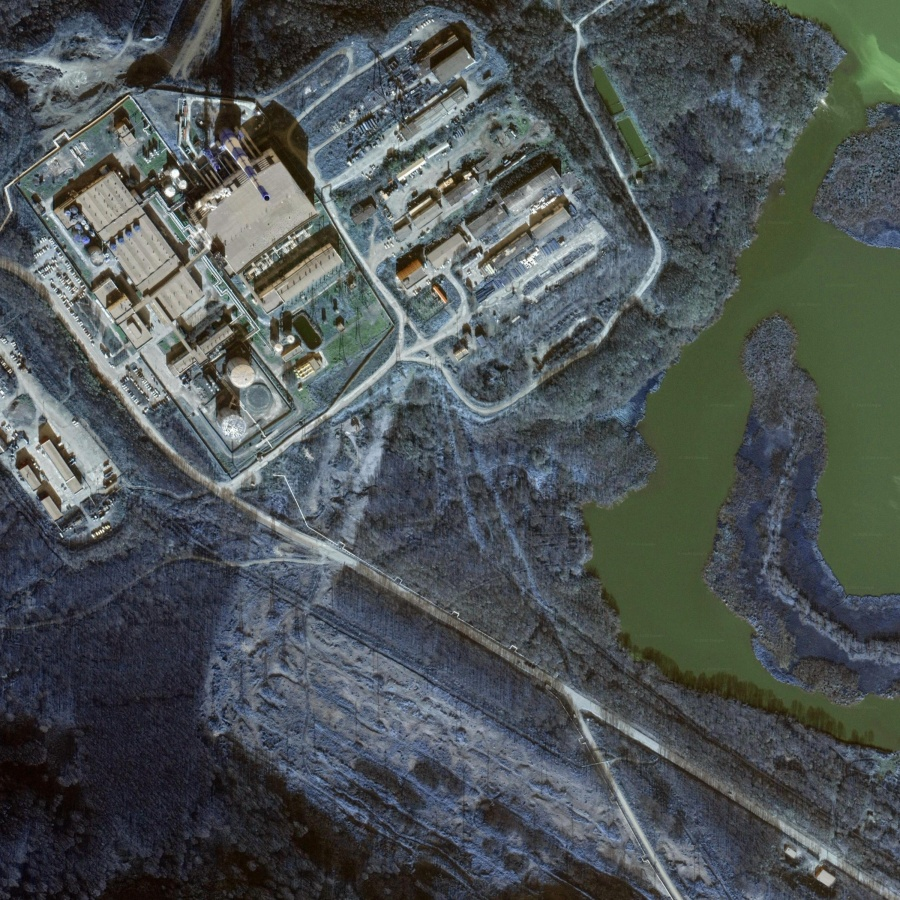PowerPlant: (51, 80, 366, 444)
